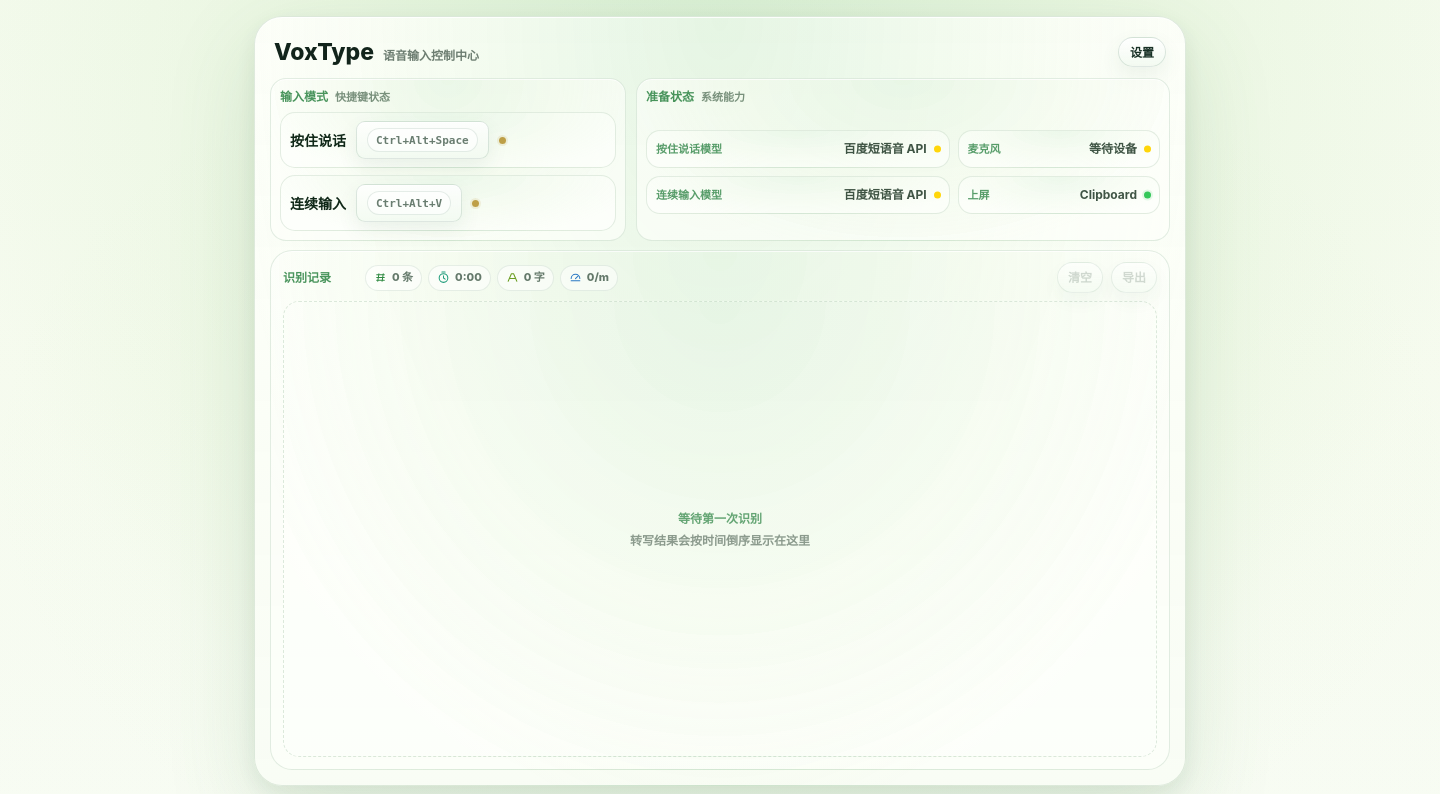
Test: App › uses readable embedded diagnostic status styles
Click the button "设置".
click(1142, 52)  # box [1118,37,1166,67]
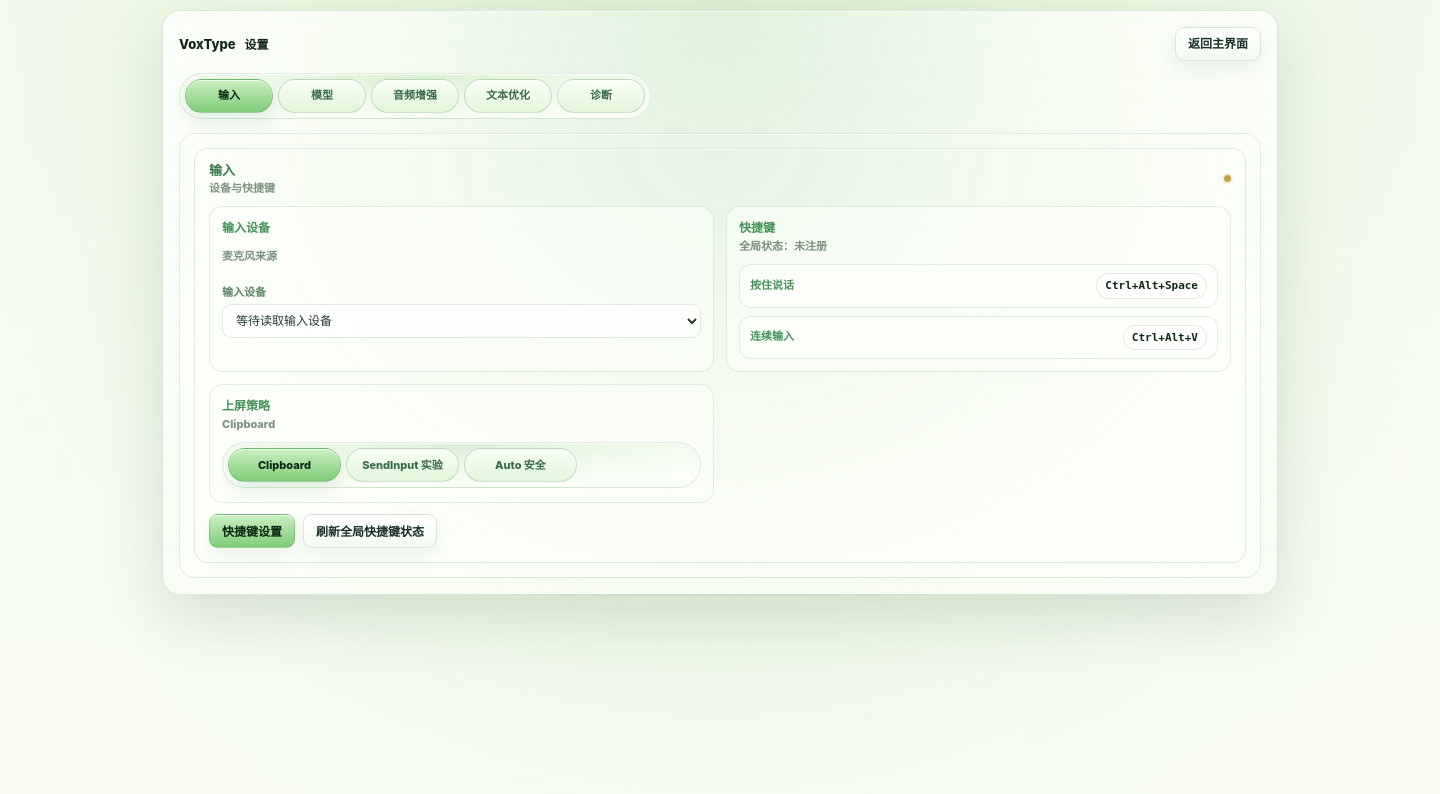
Click the button "诊断".
click(601, 96)  # box [557,79,645,113]
(page scrolled)
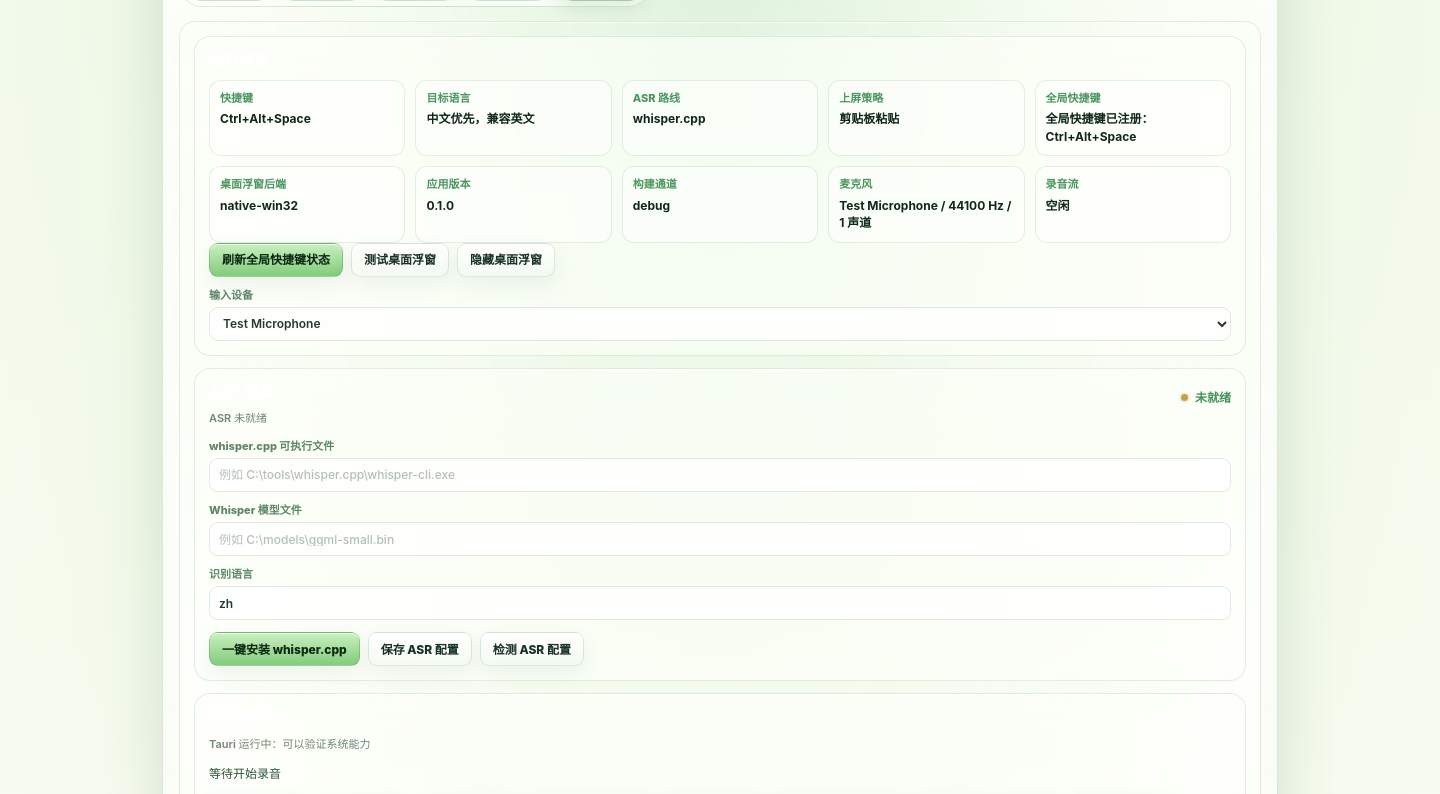
Expected: the text "中文优先，兼容英文" is shown, [426,111,534,126]
Expected: the text "剪贴板粘贴" is shown, [839,111,899,126]
Expected: the text "Ctrl+Alt+Space" is shown, [220,111,311,126]
